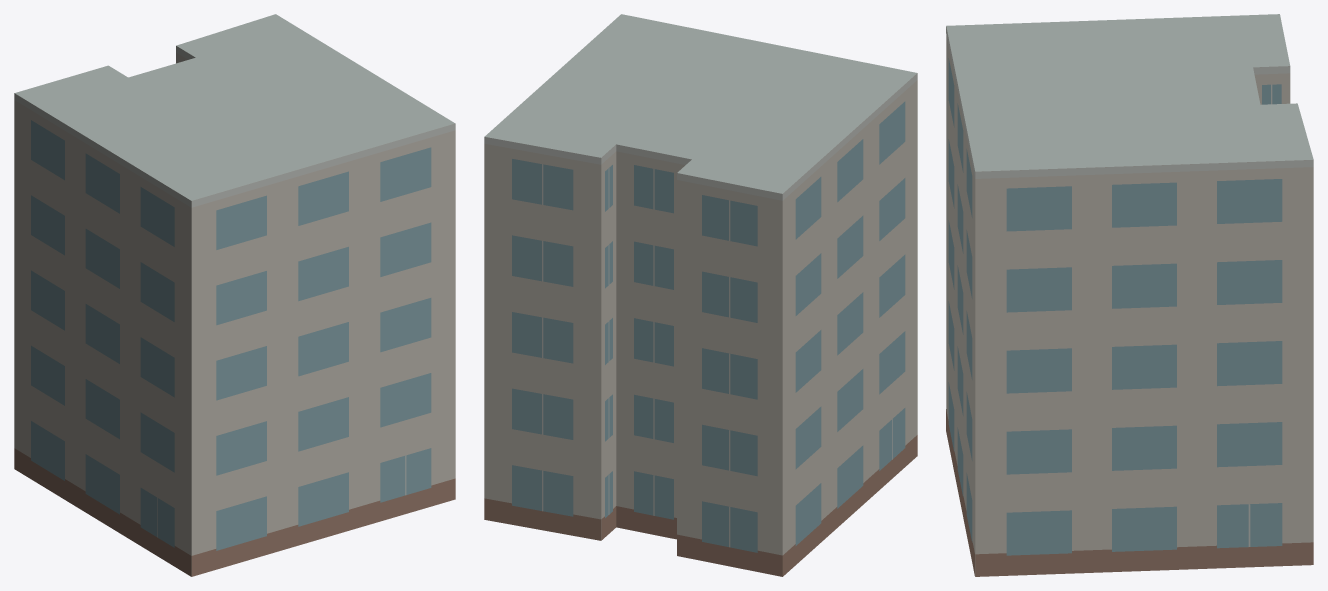
Rendered from survey-upis-32729259.glb.
3 views of the same model, side by side, from view 1: azimuth 30°, elevation 25°; view 2: azimuth 150°, elevation 25°; view 3: azimuth 270°, elevation 25° (orthographic). The views are drawn at different scales.
Visible parts, largest first — view 1: survey-upis-32729259.tmp; view 2: survey-upis-32729259.tmp; view 3: survey-upis-32729259.tmp.
Boxes of the visible parts, x1,y1,x2,y2 form: survey-upis-32729259.tmp: (14, 14, 455, 576); survey-upis-32729259.tmp: (484, 14, 917, 576); survey-upis-32729259.tmp: (946, 14, 1313, 576).
Bounding box in the file's own units: 11.23 × 13.45 × 11.07.
